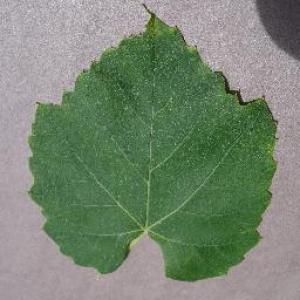Folha: (27, 3, 279, 283)
